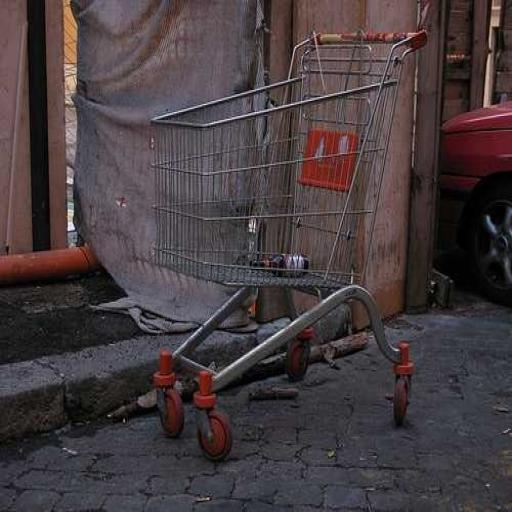shopping_cart: (150, 28, 430, 458)
